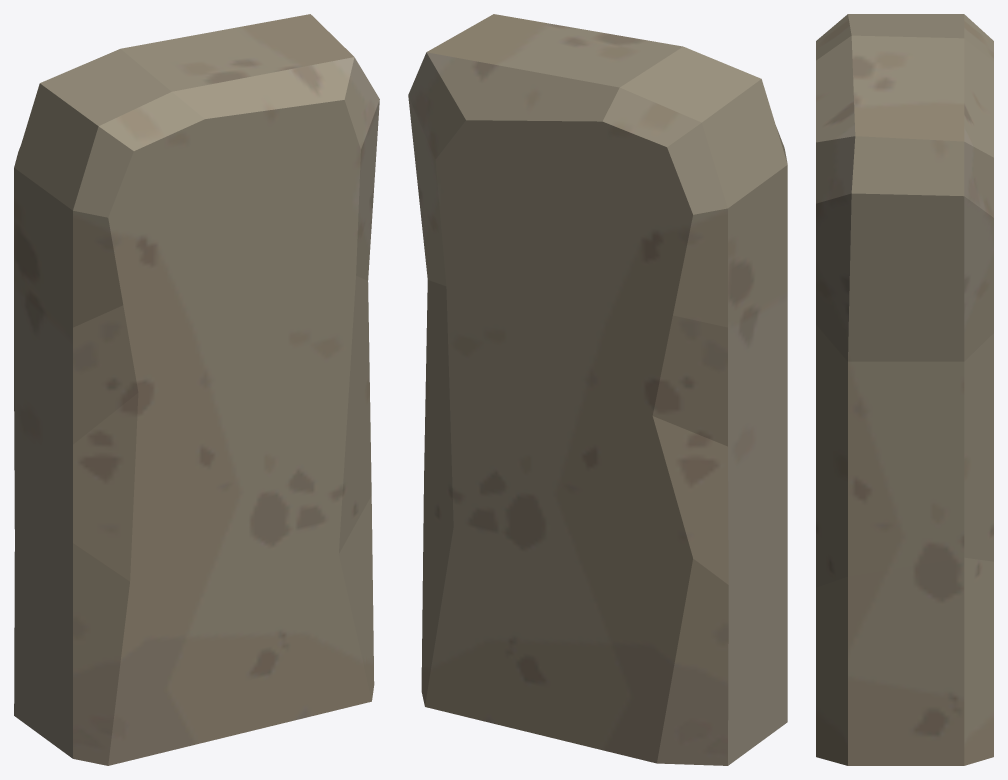
The picture shows the model from 3 angles, left to right: view 1: azimuth 30°, elevation 25°; view 2: azimuth 150°, elevation 25°; view 3: azimuth 270°, elevation 25°; orthographic projection. The views are drawn at different scales.
Visible parts, largest first — view 1: SM_Env_Ruin_03; view 2: SM_Env_Ruin_03; view 3: SM_Env_Ruin_03.
Part boxes in pixels (x1,y1,x2,y2): SM_Env_Ruin_03: (14,14,379,765); SM_Env_Ruin_03: (408,14,787,765); SM_Env_Ruin_03: (816,14,993,765).
Bounding box in the file's own units: 1.82 × 3.55 × 0.9027.
1 material, 1 textured.
